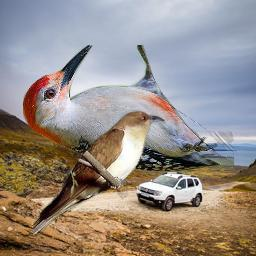Cuckoo: (33, 109, 165, 236)
Woodpecker: (23, 45, 234, 172)
